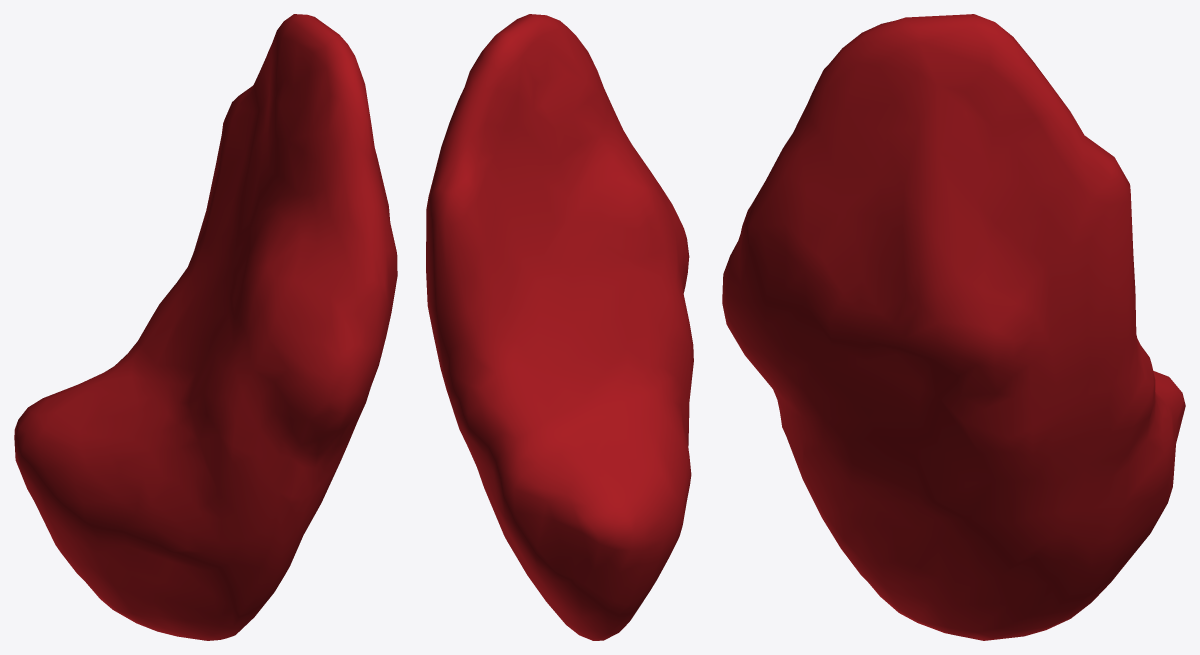
Rendered from left_putamen.obj.
3 views of the same model, side by side, from view 1: azimuth 30°, elevation 25°; view 2: azimuth 150°, elevation 25°; view 3: azimuth 270°, elevation 25° (orthographic). The views are drawn at different scales.
Parts seen in each view (by area): view 1: left_putamen_left_putamen; view 2: left_putamen_left_putamen; view 3: left_putamen_left_putamen.
Boxes of the visible parts, left/top/right/bottom form: left_putamen_left_putamen: left=14, top=14, right=397, bottom=640; left_putamen_left_putamen: left=426, top=14, right=693, bottom=640; left_putamen_left_putamen: left=722, top=14, right=1185, bottom=640.
Bounding box in the file's own units: 2.01 × 3.99 × 2.45.
